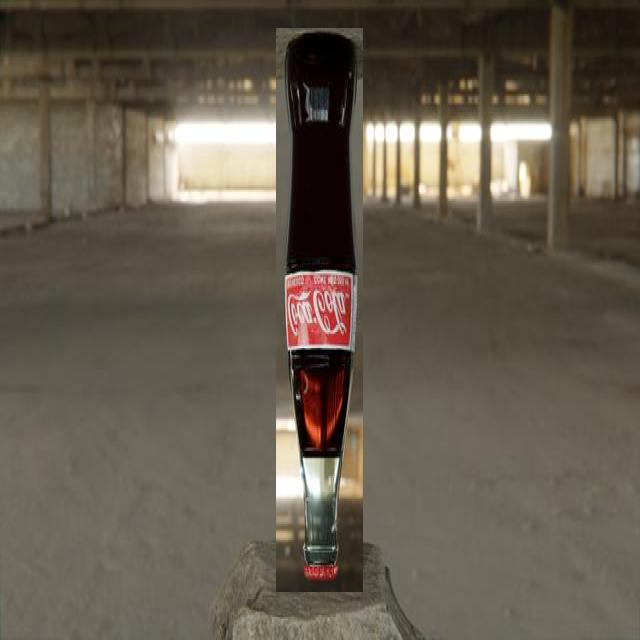coca-cola: (276, 28, 363, 592)
